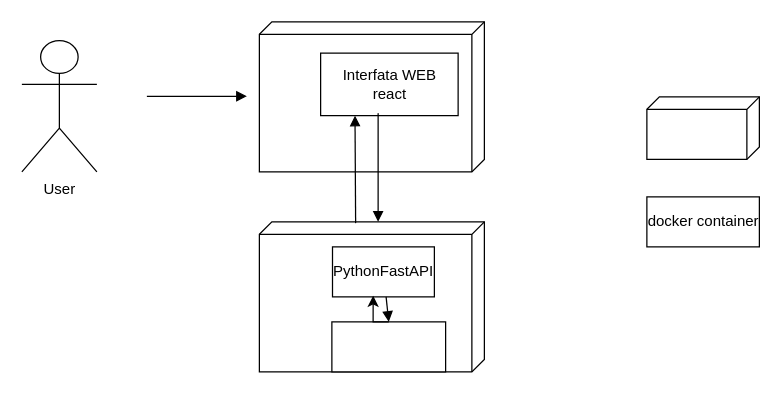
The diagram is 781 pixels wide and 394 high, and some of its shapes have lost their labels. The shapes that lost their labels are listed below. From the top down, each one's centre as x and y in pixels, then its label:
the point at 702,127: server
the point at 388,346: Model Tensorflow
